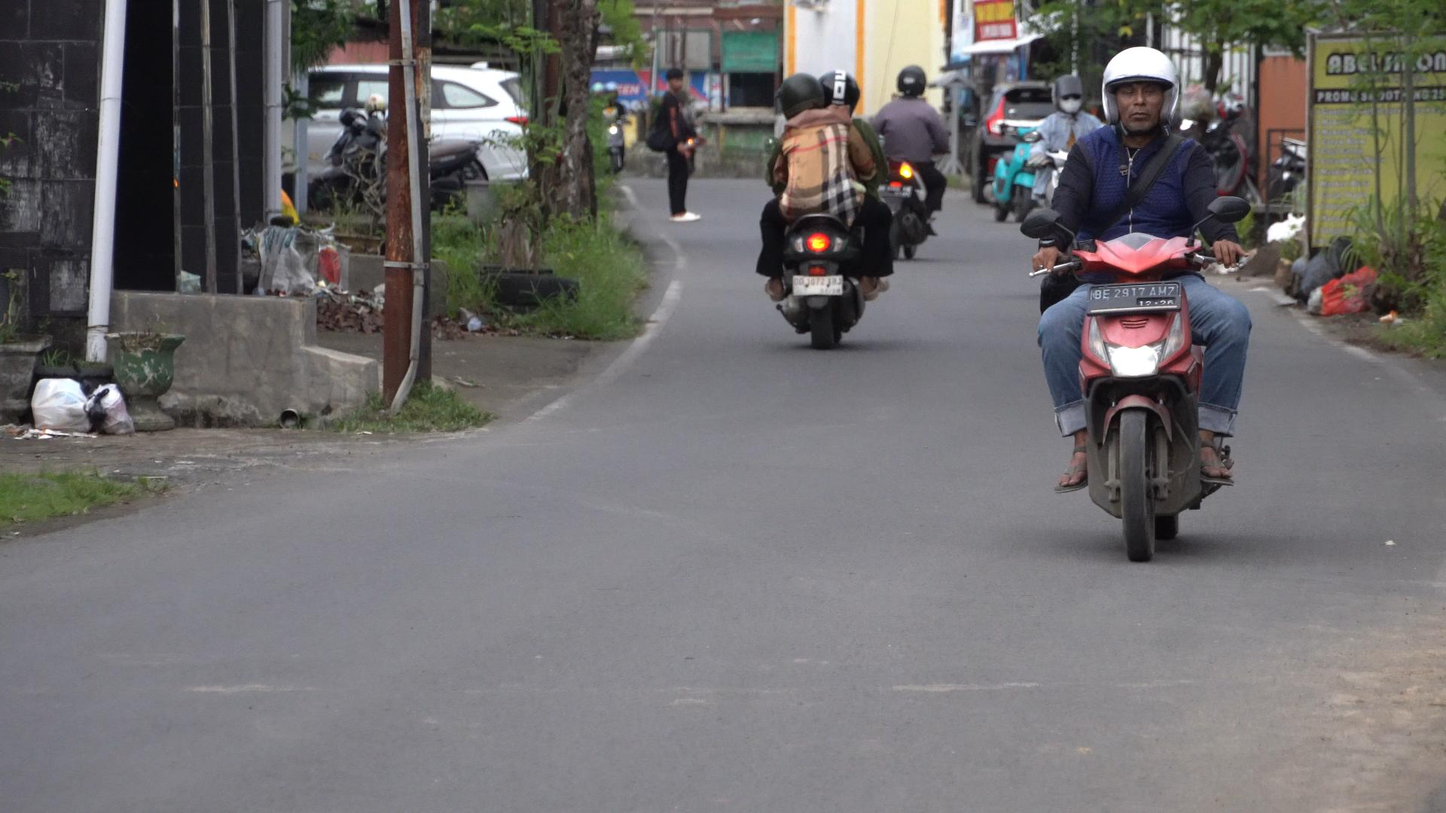number-plate: (1088, 280, 1184, 311)
